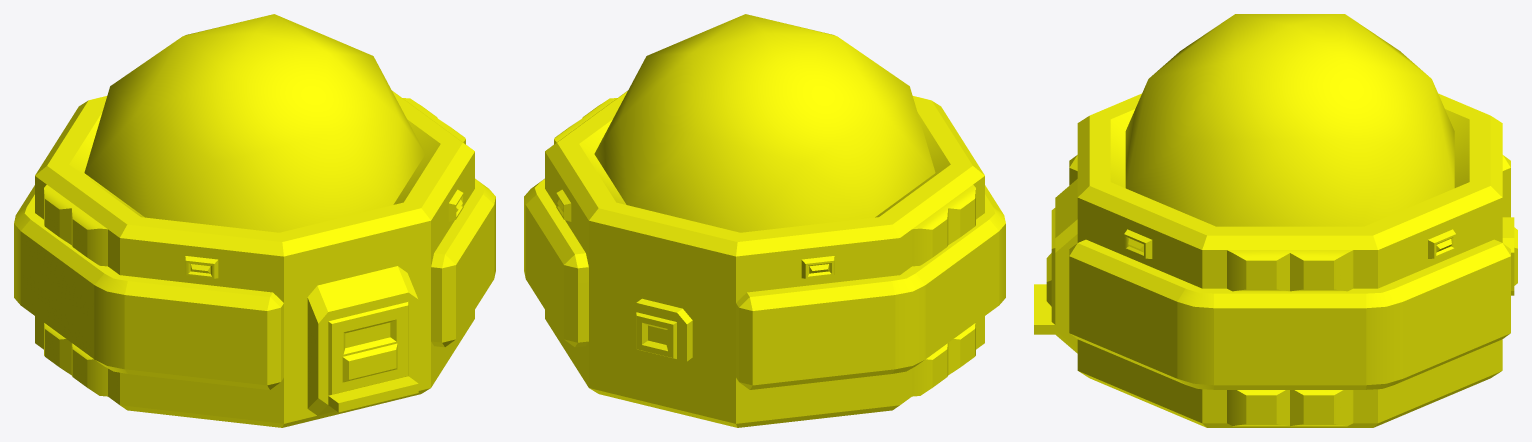
The model's file is kaykit-basemodule-e.glb.
The picture shows the model from 3 angles, left to right: view 1: azimuth 30°, elevation 25°; view 2: azimuth 150°, elevation 25°; view 3: azimuth 270°, elevation 25°; orthographic projection. The views are drawn at different scales.
Visible parts, largest first — view 1: basemodule_E; view 2: basemodule_E; view 3: basemodule_E.
Boxes of the visible parts, x1=… form: basemodule_E: x1=14, y1=14, x2=495, y2=427; basemodule_E: x1=524, y1=14, x2=1005, y2=427; basemodule_E: x1=1034, y1=14, x2=1517, y2=427.
Size of the model in its own units: 2.22 by 1.65 by 2.28.
